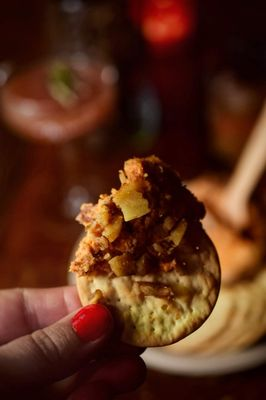salad: (69, 154, 222, 348)
